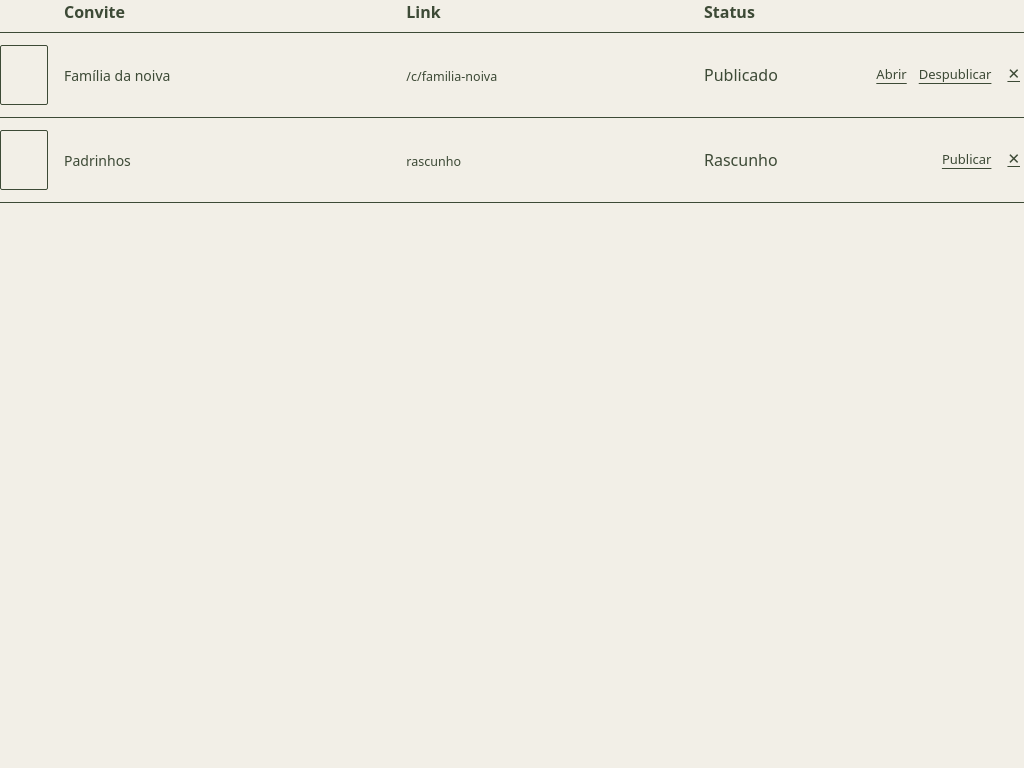
it: SC-006: apagar passa pelo diálogo › rascunho apagado não promete link quebrado que não existe
The width and height of the screenshot is (1024, 768).
Click the button named "Apagar Padrinhos" at (1014, 160), box x1=1003 y1=150 x2=1023 y2=170
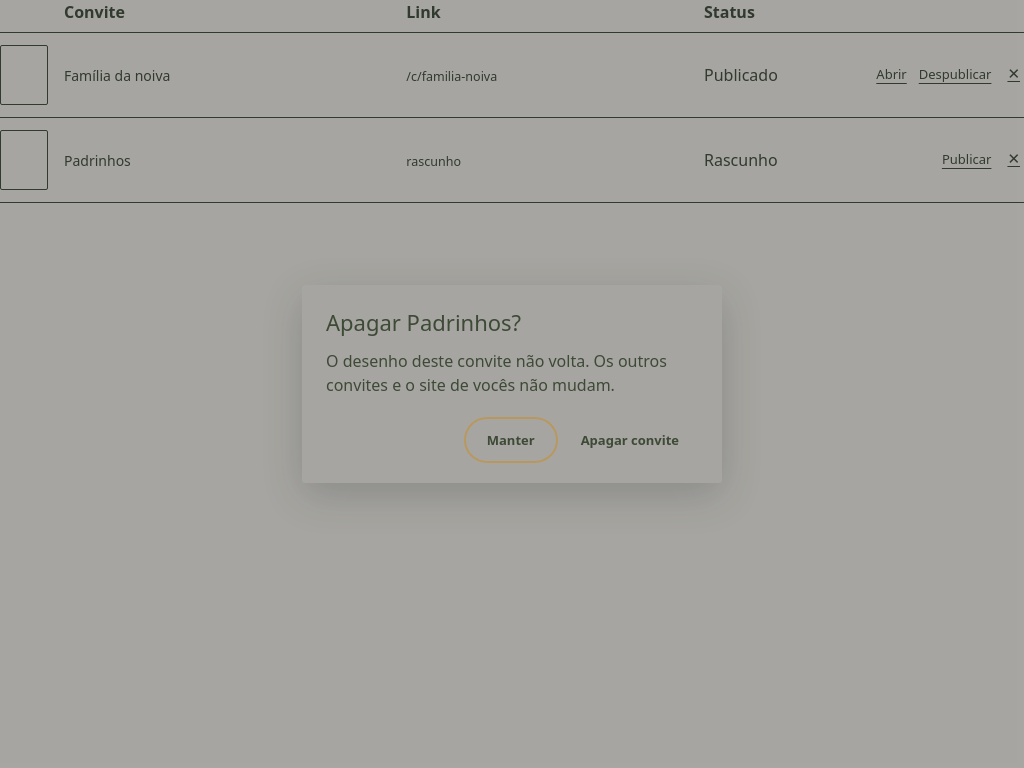
expect the text "/c/" is not shown: met
expect the dialog shows "O desenho deste convite não volta.": met, box x1=326 y1=350 x2=667 y2=396
